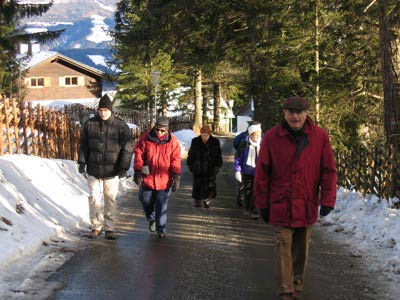person: (252, 96, 341, 300), (77, 95, 135, 243)
